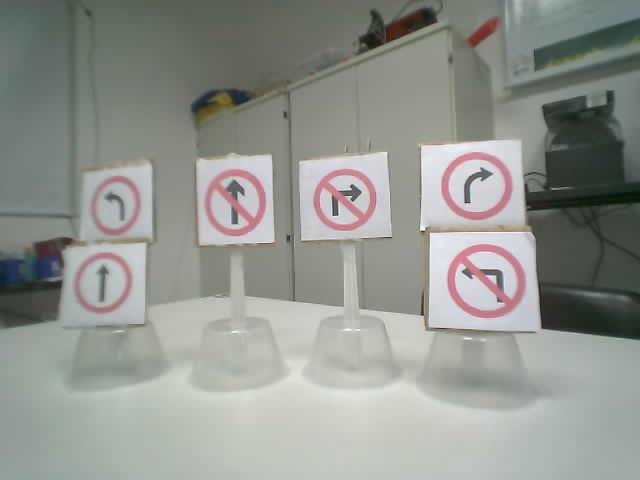R-25a_esquerda: (89, 174, 142, 236)
R-25b_direita: (439, 152, 512, 220)
R-26_frente: (73, 251, 132, 314)
R-3_sentido-proibido: (204, 168, 267, 237)
R-4a_proibido-esquerda: (445, 242, 526, 319)
R-4b_proibido-direita: (311, 168, 376, 232)
